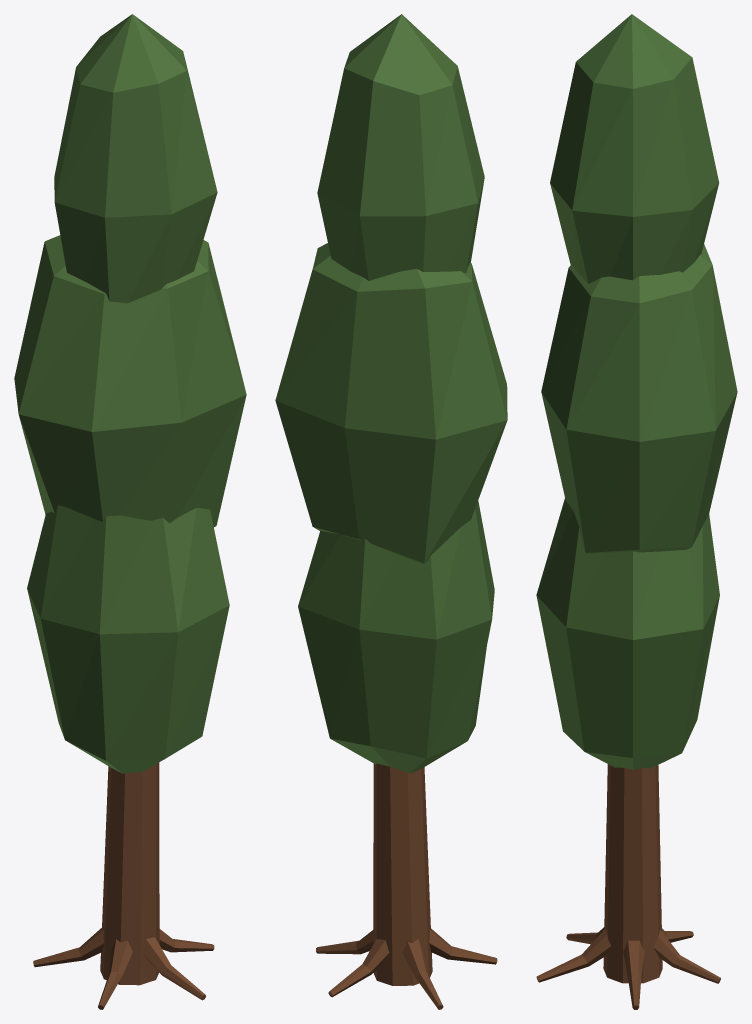
Rendered from Plant_Common_ColumnarPoplar_001.glb.
3 views of the same model, side by side, from view 1: azimuth 30°, elevation 25°; view 2: azimuth 150°, elevation 25°; view 3: azimuth 270°, elevation 25° (orthographic).
Visible parts, largest first — view 1: Plant_Common_ColumnarPoplar_001; view 2: Plant_Common_ColumnarPoplar_001; view 3: Plant_Common_ColumnarPoplar_001.
Boxes of the visible parts, <box> form: Plant_Common_ColumnarPoplar_001: <box>14,14,246,1009</box>; Plant_Common_ColumnarPoplar_001: <box>275,14,507,1009</box>; Plant_Common_ColumnarPoplar_001: <box>536,14,737,1009</box>.
Size of the model in its own units: 1.87 by 7.9 by 1.5.
